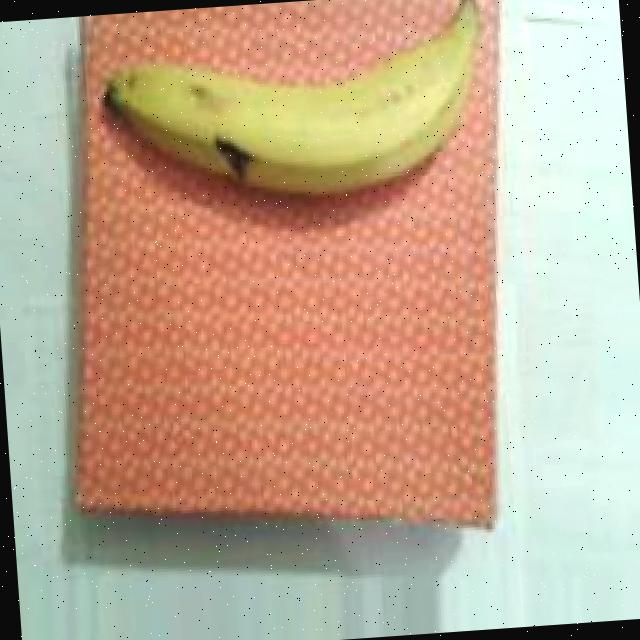banana: (83, 0, 485, 279)
